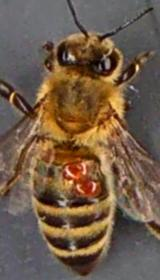varroa_mite: (68, 178, 100, 205), (61, 154, 94, 178)
